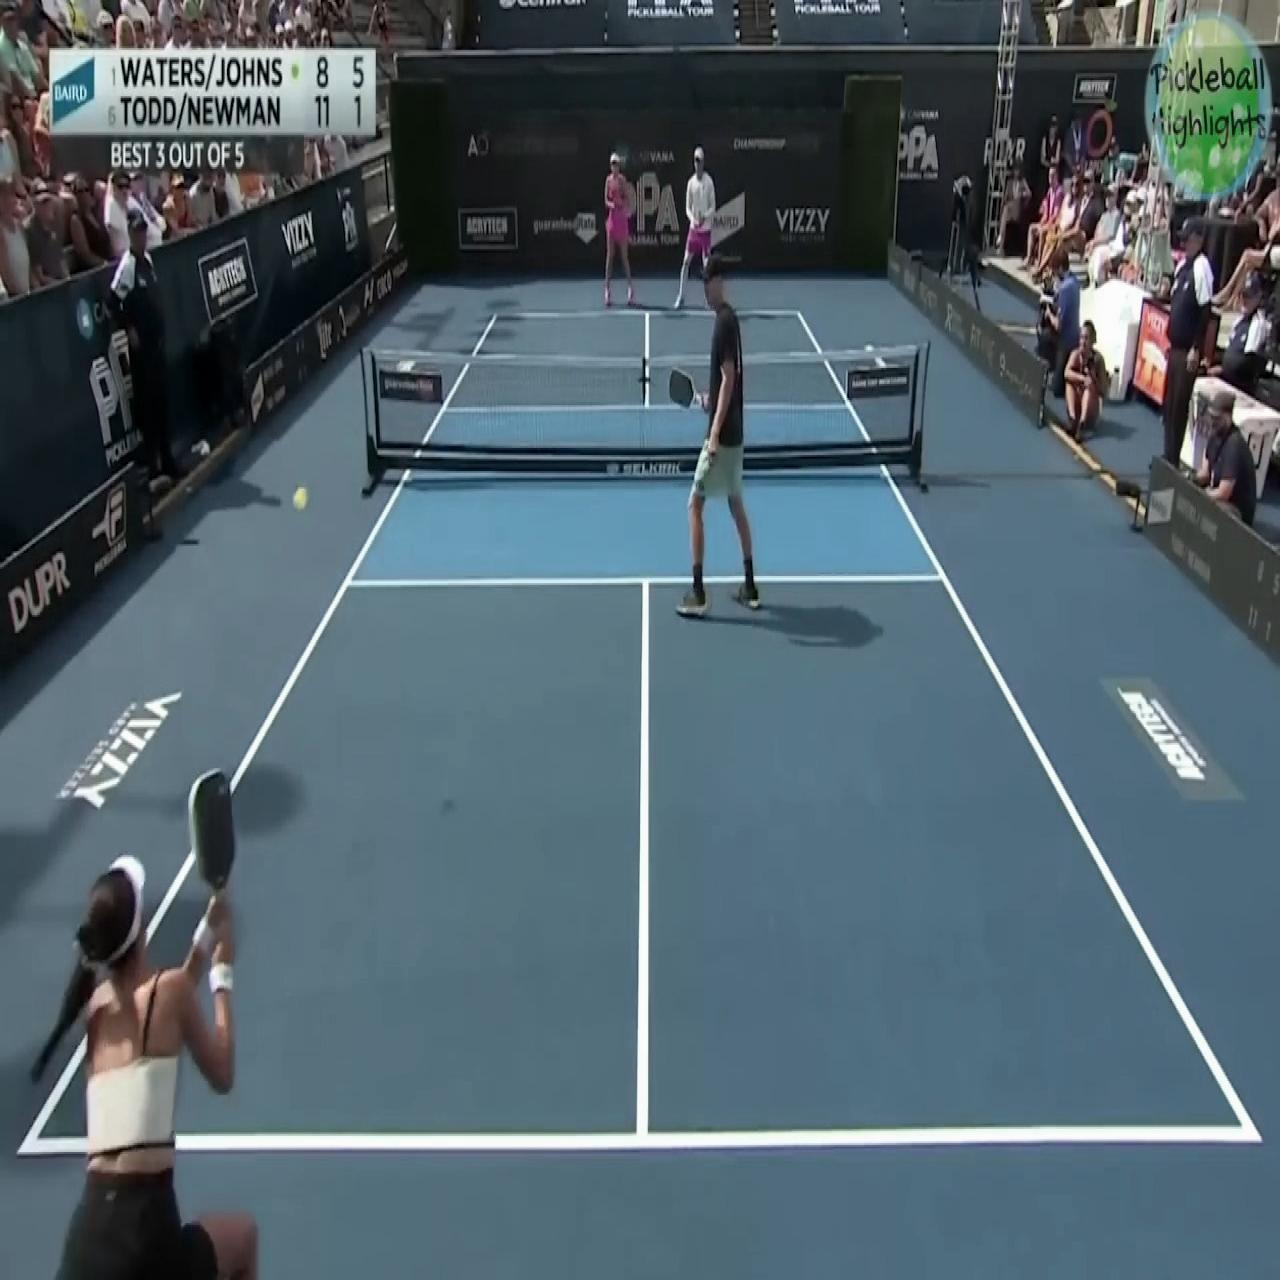Pickleball: (291, 482, 311, 516)
